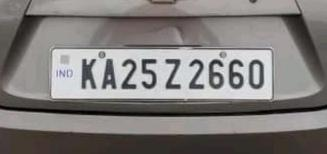0: (247, 57, 266, 90)
2: (187, 54, 206, 91), (120, 57, 138, 92)
5: (139, 55, 161, 90)
6: (227, 58, 247, 90), (207, 57, 225, 90)
A: (99, 56, 120, 93)
K: (77, 56, 99, 92)
Z: (164, 55, 183, 92)
